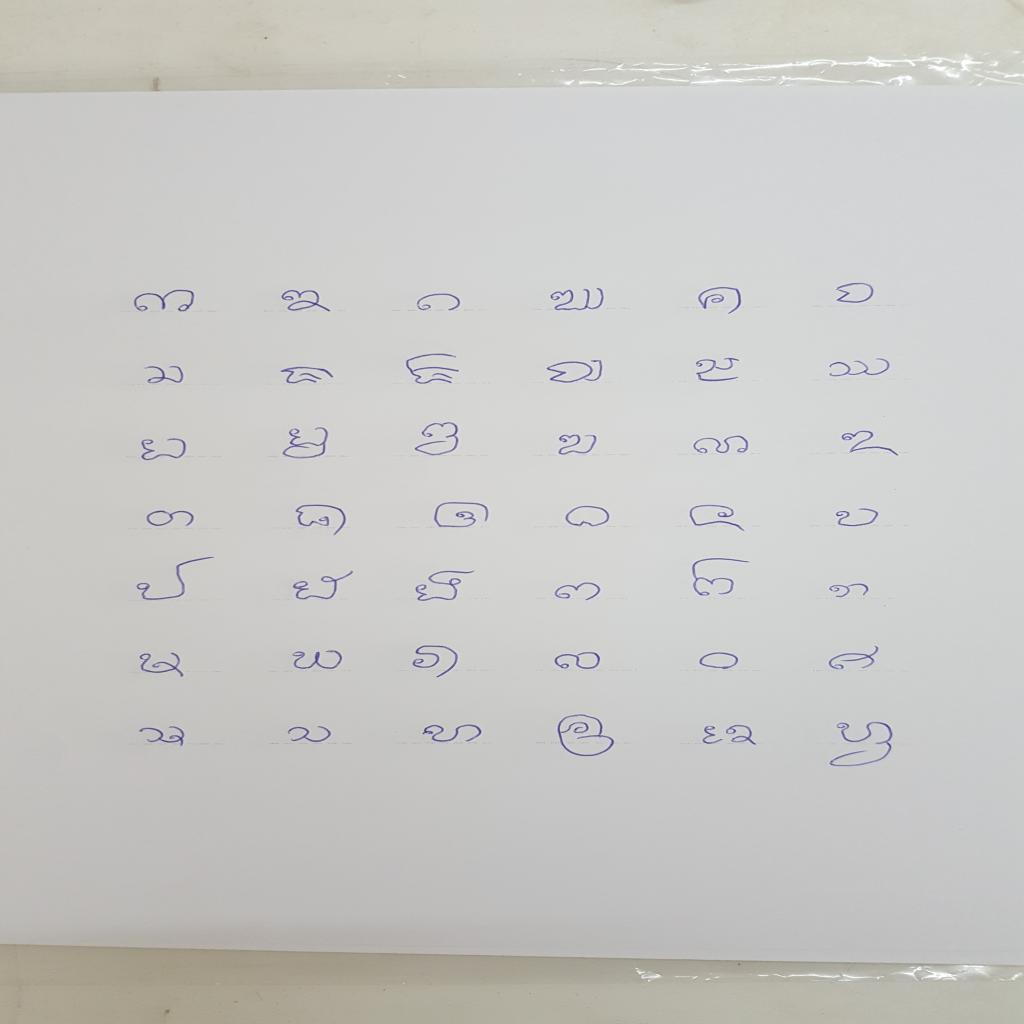LN001: (130, 287, 201, 316)
LN002: (276, 288, 338, 318)
LN003: (412, 291, 467, 315)
LN005: (693, 285, 749, 319)
LN006: (830, 281, 880, 307)
LN007: (139, 364, 190, 388)
LN008: (275, 365, 340, 389)
LN009: (401, 351, 466, 389)
LN010: (542, 357, 610, 387)
LN012: (824, 356, 896, 381)
LN013: (135, 435, 194, 465)
LN014: (279, 425, 336, 462)
LN016: (554, 431, 602, 459)
LN017: (688, 433, 755, 458)
LN018: (836, 429, 905, 461)
LN019: (144, 509, 201, 531)
LN020: (291, 502, 352, 540)
LN021: (429, 500, 495, 533)
LN022: (560, 504, 616, 531)
LN023: (685, 502, 750, 536)
LN024: (831, 506, 886, 531)
LN025: (132, 555, 222, 605)
LN028: (550, 581, 607, 605)
LN029: (685, 556, 757, 601)
LN030: (825, 581, 875, 602)
LN031: (136, 650, 192, 682)
LN032: (286, 648, 349, 673)
LN033: (408, 643, 465, 682)
LN035: (694, 650, 745, 674)
LN036: (823, 643, 885, 674)
LN037: (134, 723, 192, 751)
LN038: (283, 724, 339, 746)
LN040: (552, 712, 620, 761)
LN041: (696, 723, 763, 750)
LN042: (824, 720, 901, 771)
